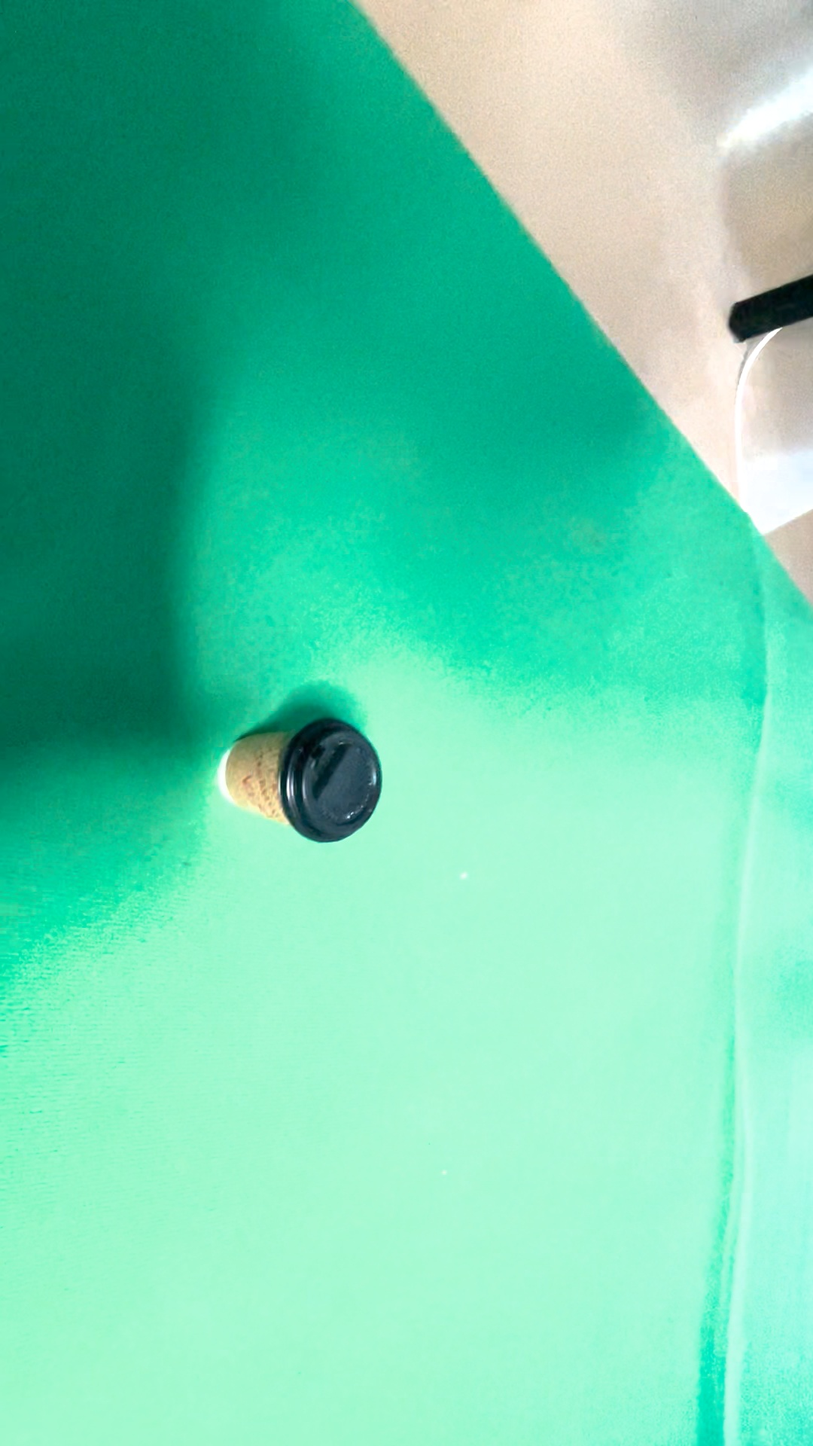cup: (446, 586, 529, 997)
